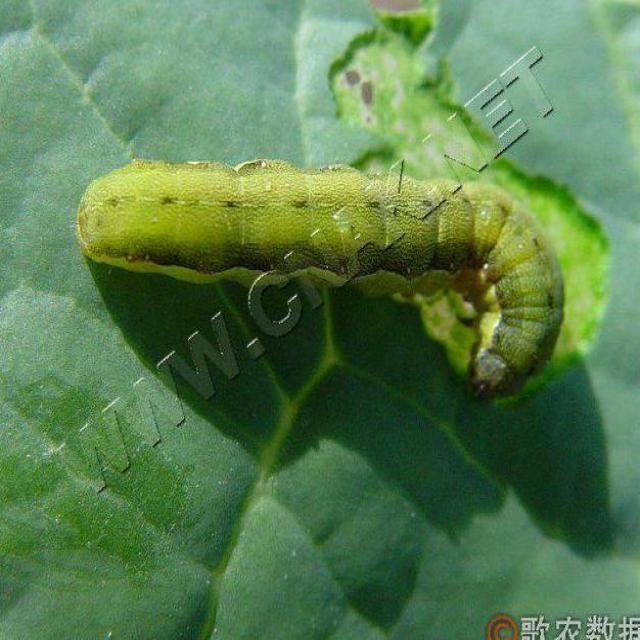BeetArmyWorm-Larva-: (46, 146, 566, 414)
